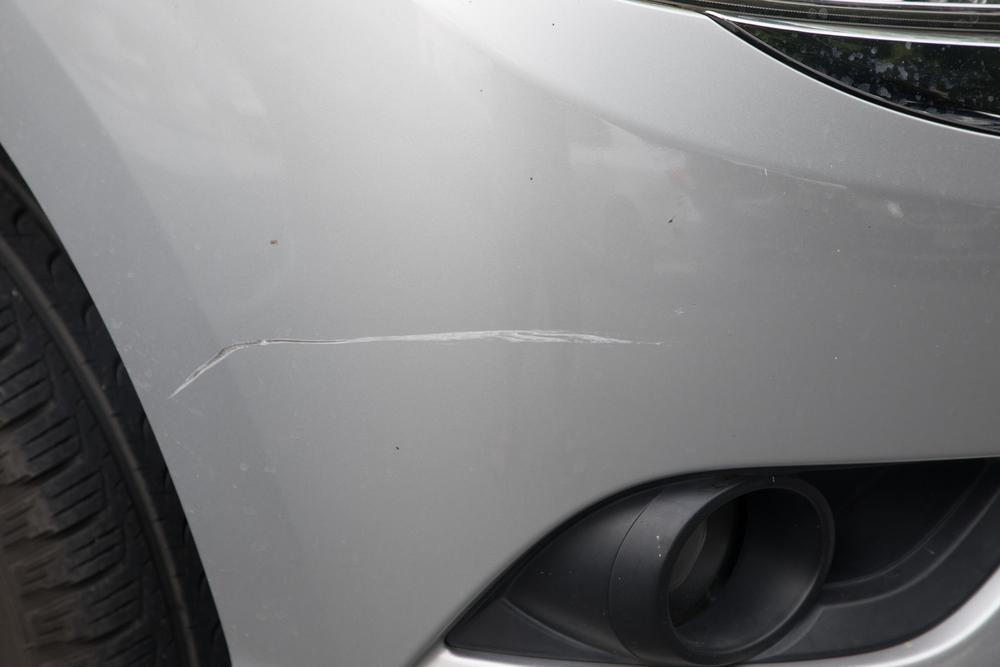scratch: (159, 328, 662, 403)
